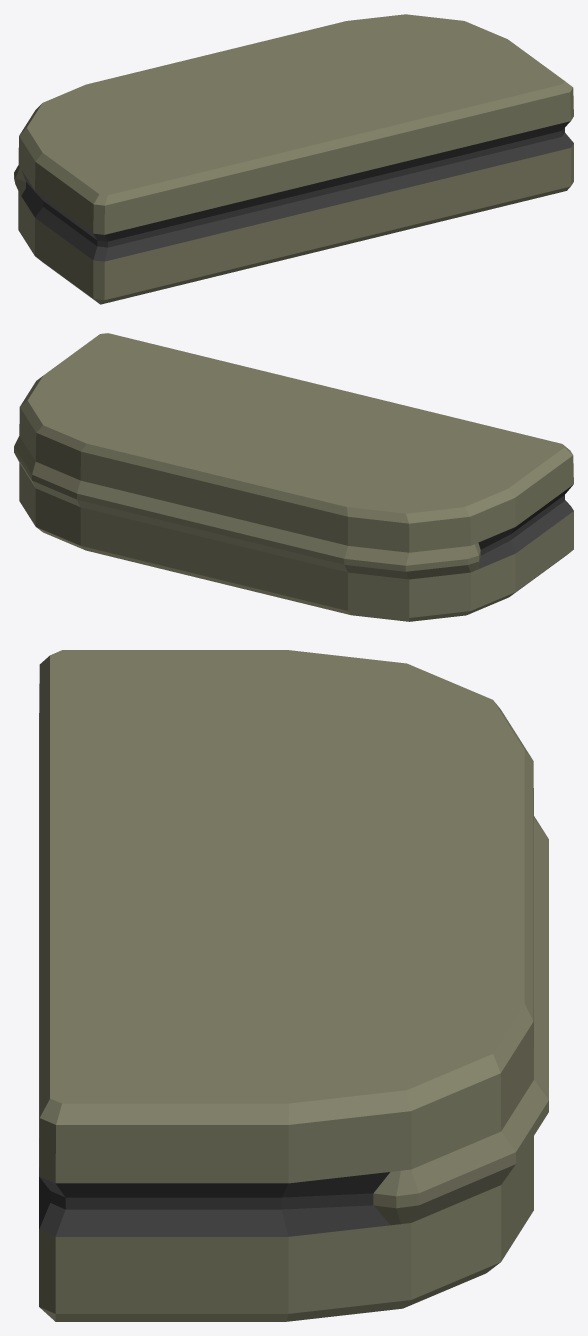
File: pencil_case_2.fbx
3 views of the same model, one above another, from view 1: azimuth 30°, elevation 25°; view 2: azimuth 150°, elevation 25°; view 3: azimuth 270°, elevation 25° (orthographic). The views are drawn at different scales.
Parts seen in each view (by area): view 1: pencil case 2; view 2: pencil case 2; view 3: pencil case 2.
Part boxes in pixels (x1,y1,x2,y2): pencil case 2: (14, 14, 573, 304); pencil case 2: (14, 333, 573, 621); pencil case 2: (39, 650, 548, 1321).
Bounding box in the file's own units: 34.65 × 7.51 × 15.94.
